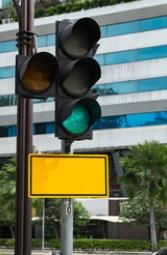green_light: (54, 17, 101, 140)
